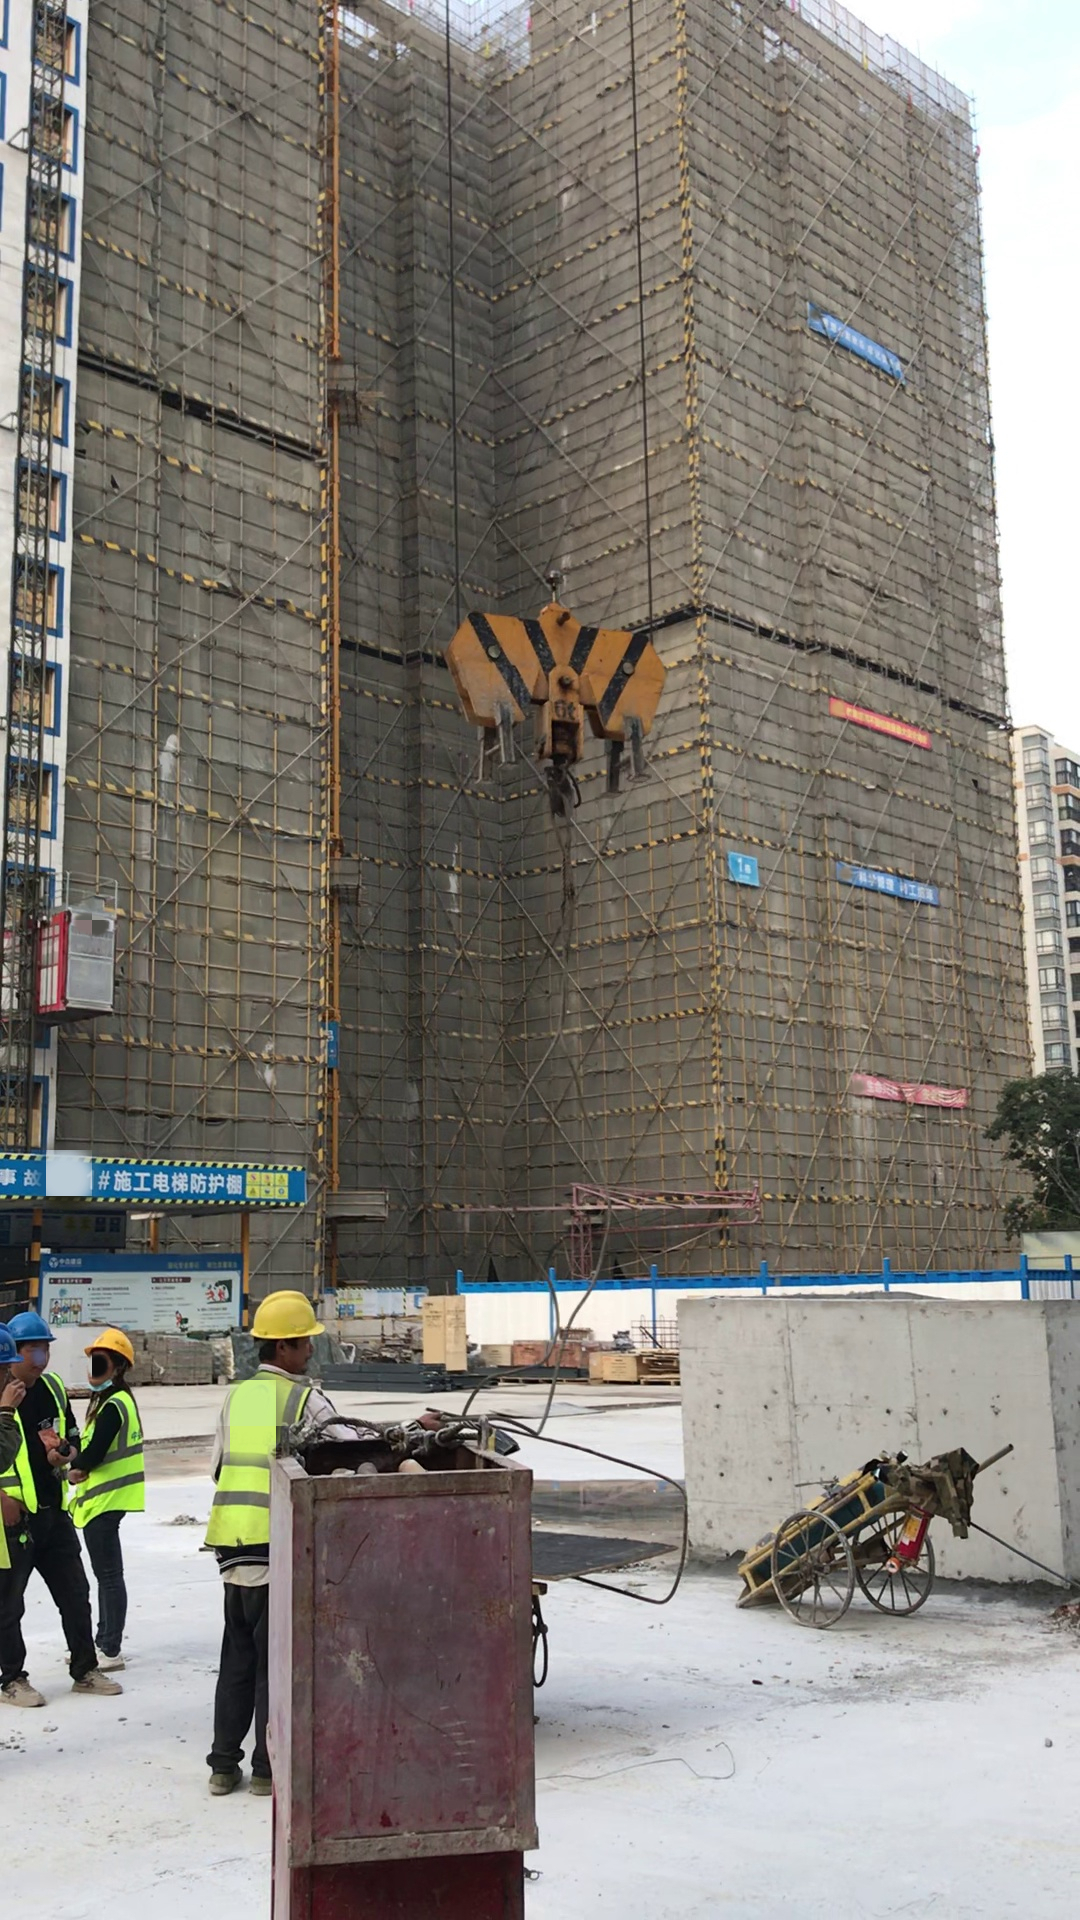cutter: (277, 1412, 665, 1920)
handcart: (736, 1447, 1019, 1633)
helmet: (241, 1287, 327, 1349), (1, 1310, 61, 1366), (87, 1326, 139, 1372)
hook: (430, 595, 681, 844)
person: (203, 1292, 336, 1795), (1, 1304, 77, 1709), (79, 1321, 150, 1691)
slogan: (1, 1154, 313, 1212), (795, 291, 911, 389), (817, 678, 940, 754), (828, 853, 948, 912), (846, 1065, 976, 1110), (717, 844, 769, 894)
vest: (211, 1370, 298, 1567), (1, 1375, 70, 1520), (74, 1395, 148, 1522)
